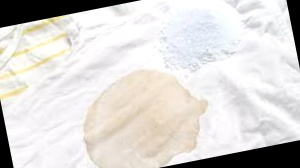coffee: (72, 59, 218, 168)
